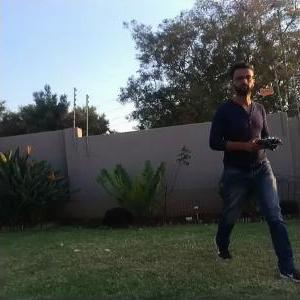follow: (211, 49, 299, 284)
